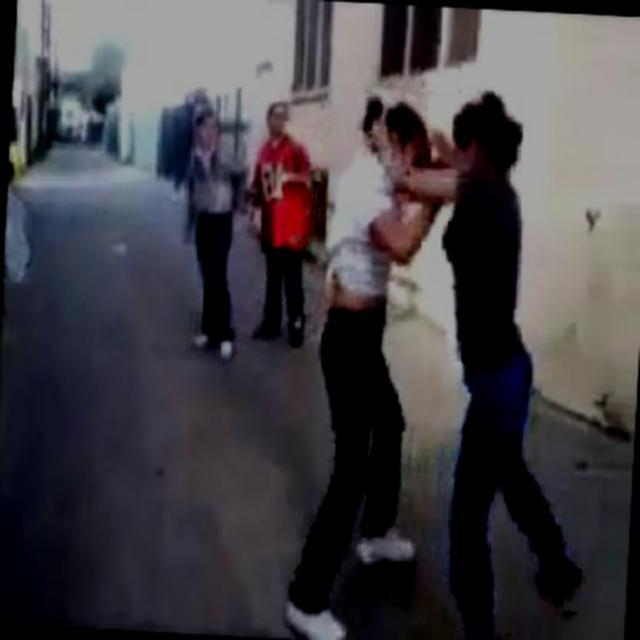fight: (310, 80, 546, 525)
non-fight: (246, 94, 322, 304), (182, 104, 245, 312)
